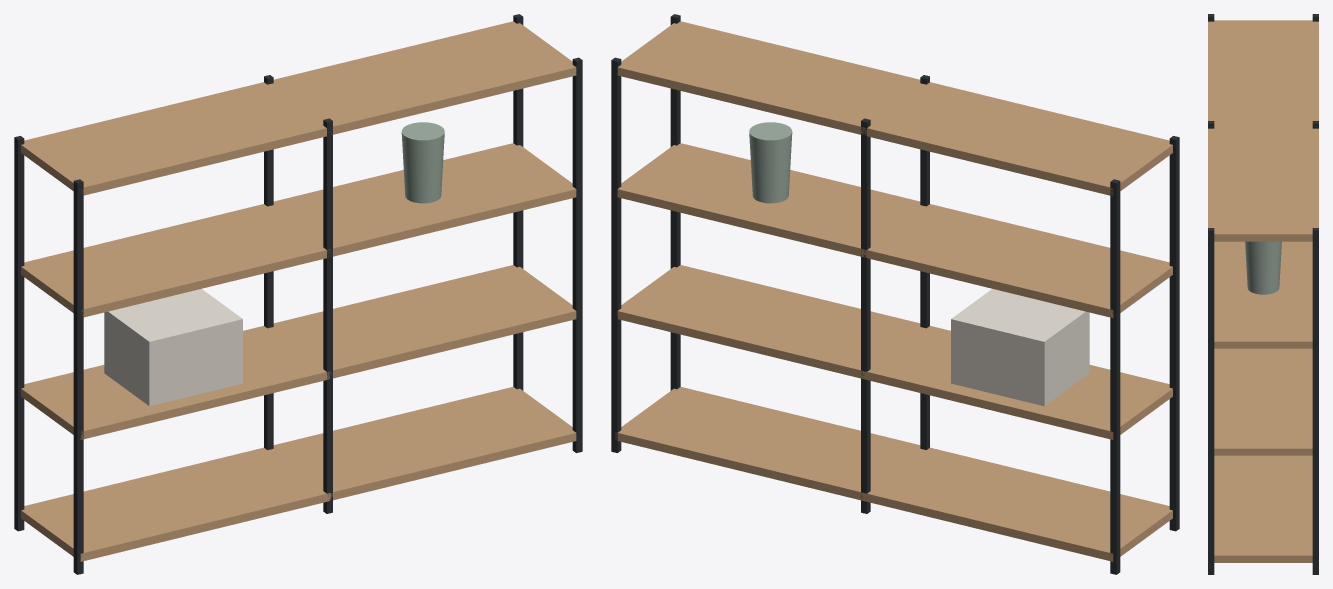
The picture shows the model from 3 angles, left to right: view 1: azimuth 30°, elevation 25°; view 2: azimuth 150°, elevation 25°; view 3: azimuth 270°, elevation 25°; orthographic projection. The views are drawn at different scales.
Parts seen in each view (by area): view 1: p10; view 2: p10; view 3: p10.
Part boxes in pixels (x1,y1,x2,y2): p10: (14,14,582,574); p10: (611,14,1179,574); p10: (1208,14,1318,574).
Size of the model in its own units: 1.62 by 1.2 by 0.35.
